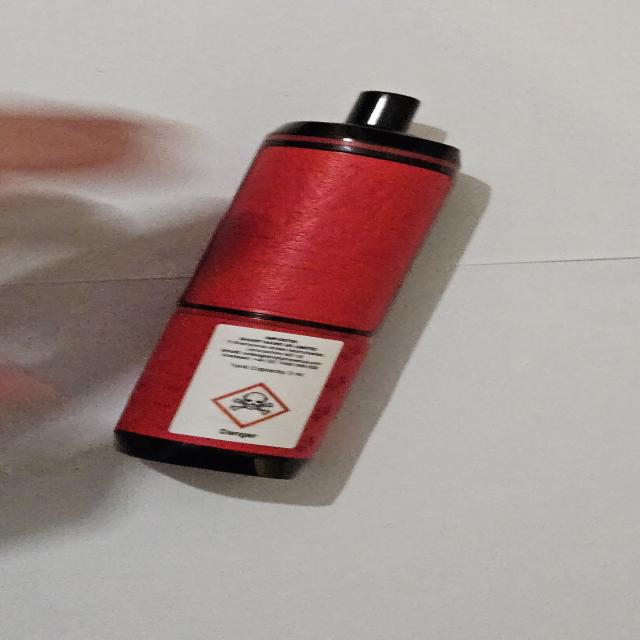Hazard: (111, 89, 463, 480)
